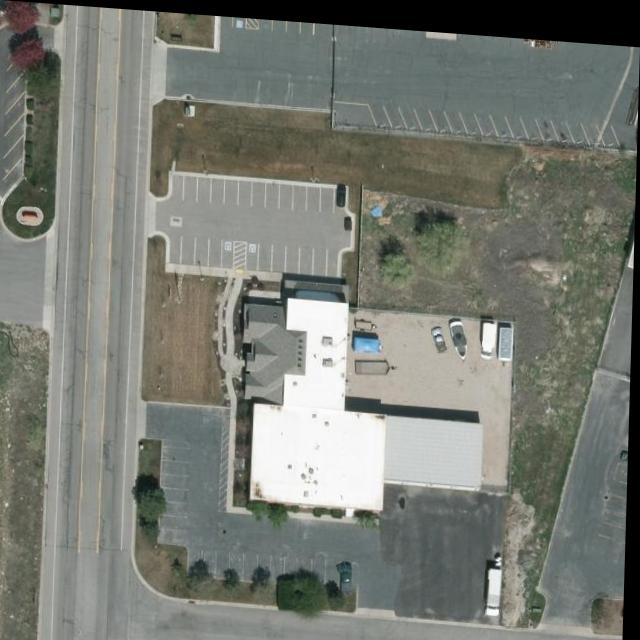vehicle: (488, 563, 505, 610), (483, 315, 498, 353), (342, 557, 359, 590), (434, 321, 450, 347)
